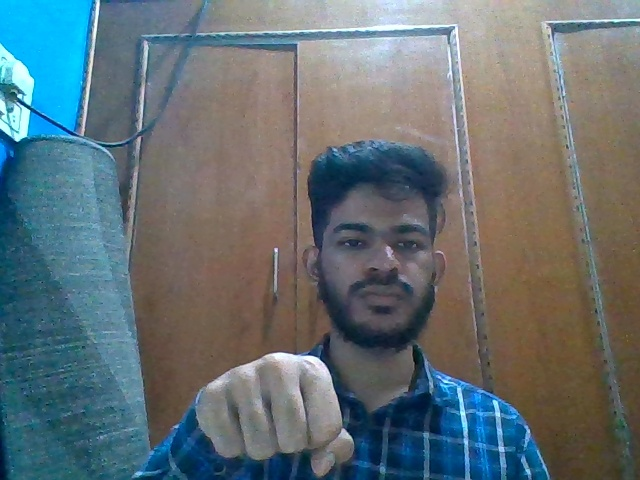yes: (191, 347, 358, 472)
